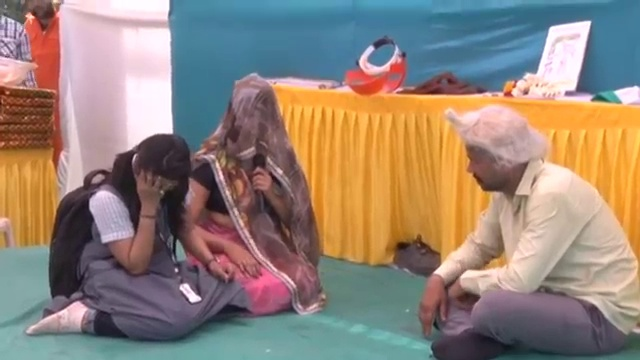helmet: (0, 54, 40, 87)
helmet_off: (446, 104, 542, 206), (225, 73, 286, 149), (120, 134, 184, 206)
person: (418, 104, 636, 360), (26, 139, 215, 339), (189, 72, 320, 315), (24, 0, 60, 88)
